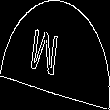M_S: (39, 25, 71, 85)
